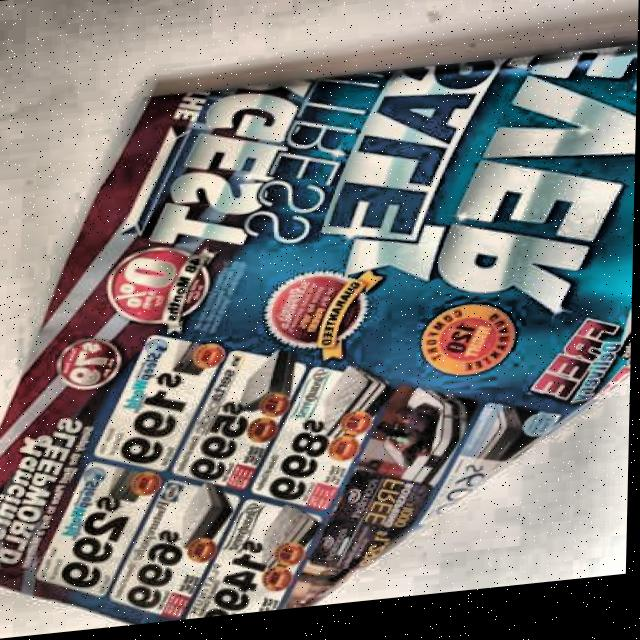paper: (0, 27, 638, 640)
